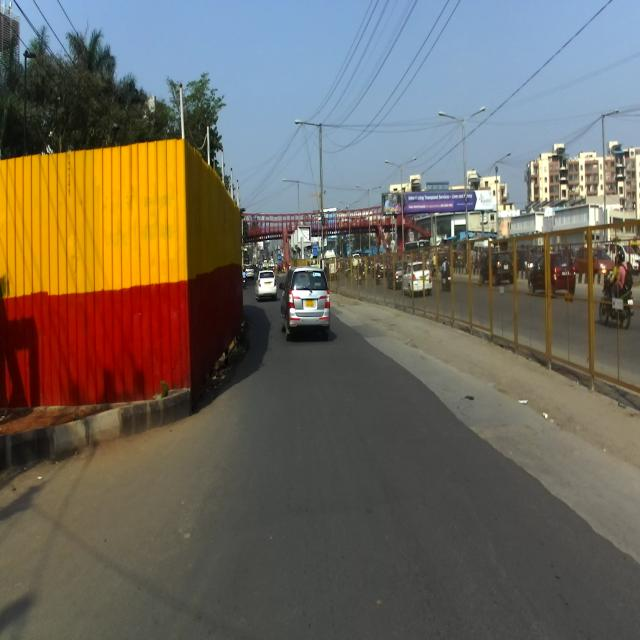car ahead at: (286, 258, 332, 342), (255, 268, 277, 300)
